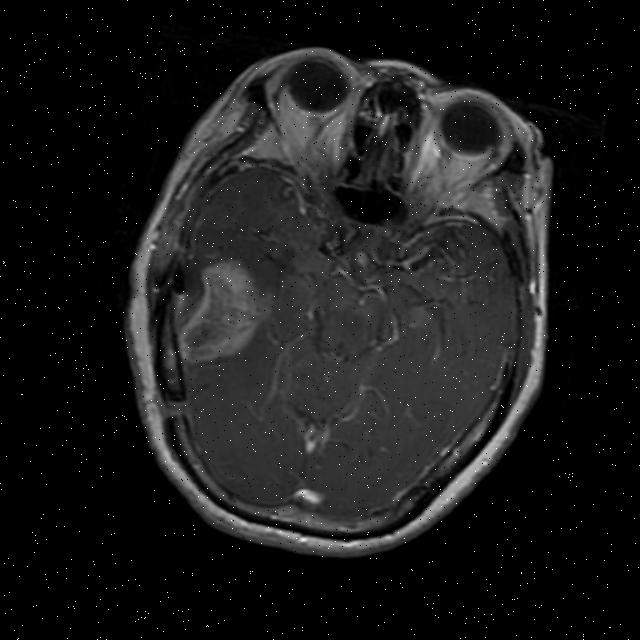Glioma: (167, 246, 287, 382)
